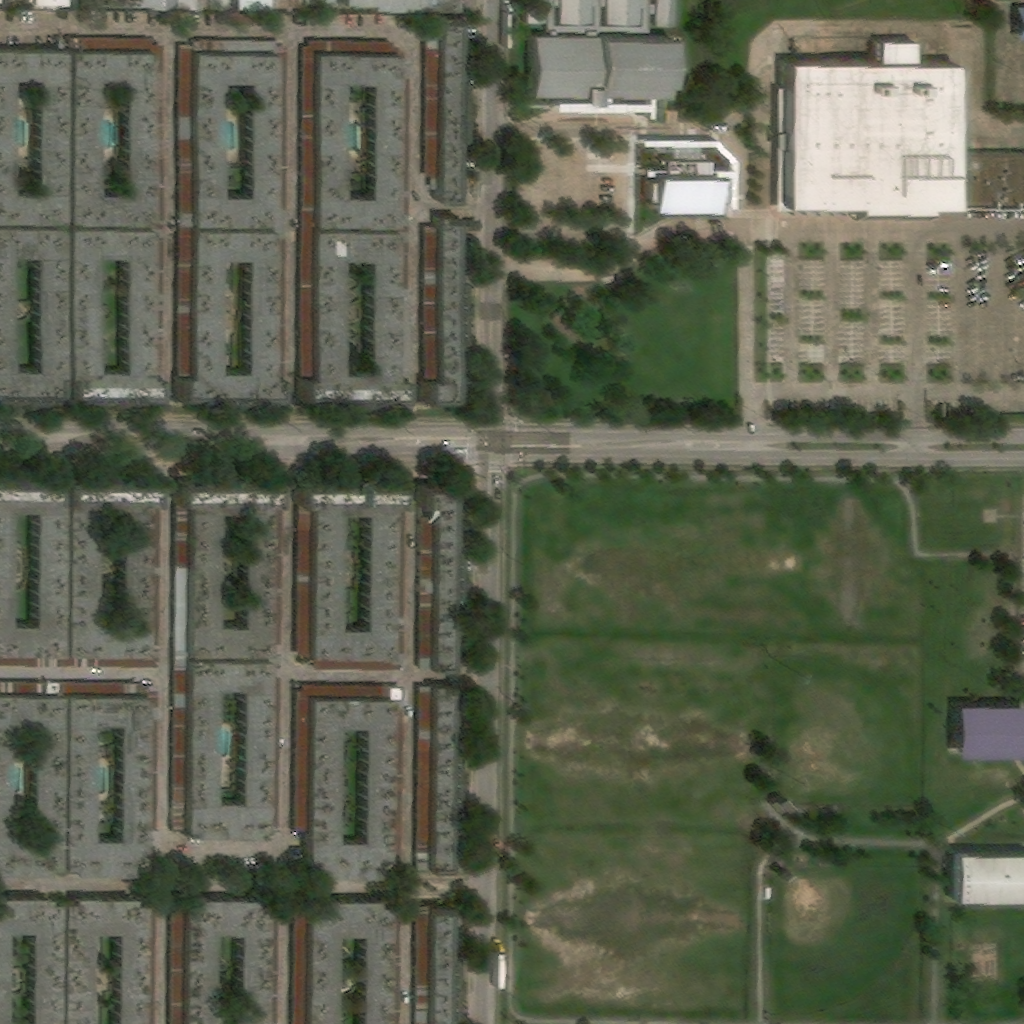no_damage: (778, 44, 963, 226), (305, 233, 414, 403), (184, 233, 289, 399), (71, 232, 166, 397), (312, 700, 397, 883), (190, 663, 277, 841), (70, 697, 154, 881), (319, 57, 406, 229), (69, 502, 162, 661), (312, 505, 404, 665), (75, 53, 158, 228), (198, 56, 281, 228), (191, 504, 281, 662), (0, 54, 72, 229), (0, 697, 66, 879), (0, 230, 71, 397), (535, 37, 678, 118), (0, 500, 69, 659), (67, 900, 152, 1023), (187, 901, 272, 1023), (310, 903, 395, 1023), (0, 898, 65, 1023), (425, 219, 461, 407), (429, 492, 459, 676), (652, 164, 732, 218), (435, 687, 457, 879), (441, 21, 463, 206), (956, 704, 1023, 762), (954, 851, 1023, 907), (963, 158, 1023, 212), (432, 911, 455, 1023), (94, 0, 235, 14), (350, 0, 433, 17), (610, 0, 645, 31), (563, 0, 600, 27), (775, 797, 801, 821), (434, 0, 468, 18), (656, 0, 677, 29), (531, 0, 551, 29), (313, 0, 345, 18), (41, 0, 76, 16), (240, 0, 278, 14), (279, 1, 311, 15), (0, 0, 20, 16), (771, 779, 783, 795), (782, 869, 793, 881)
